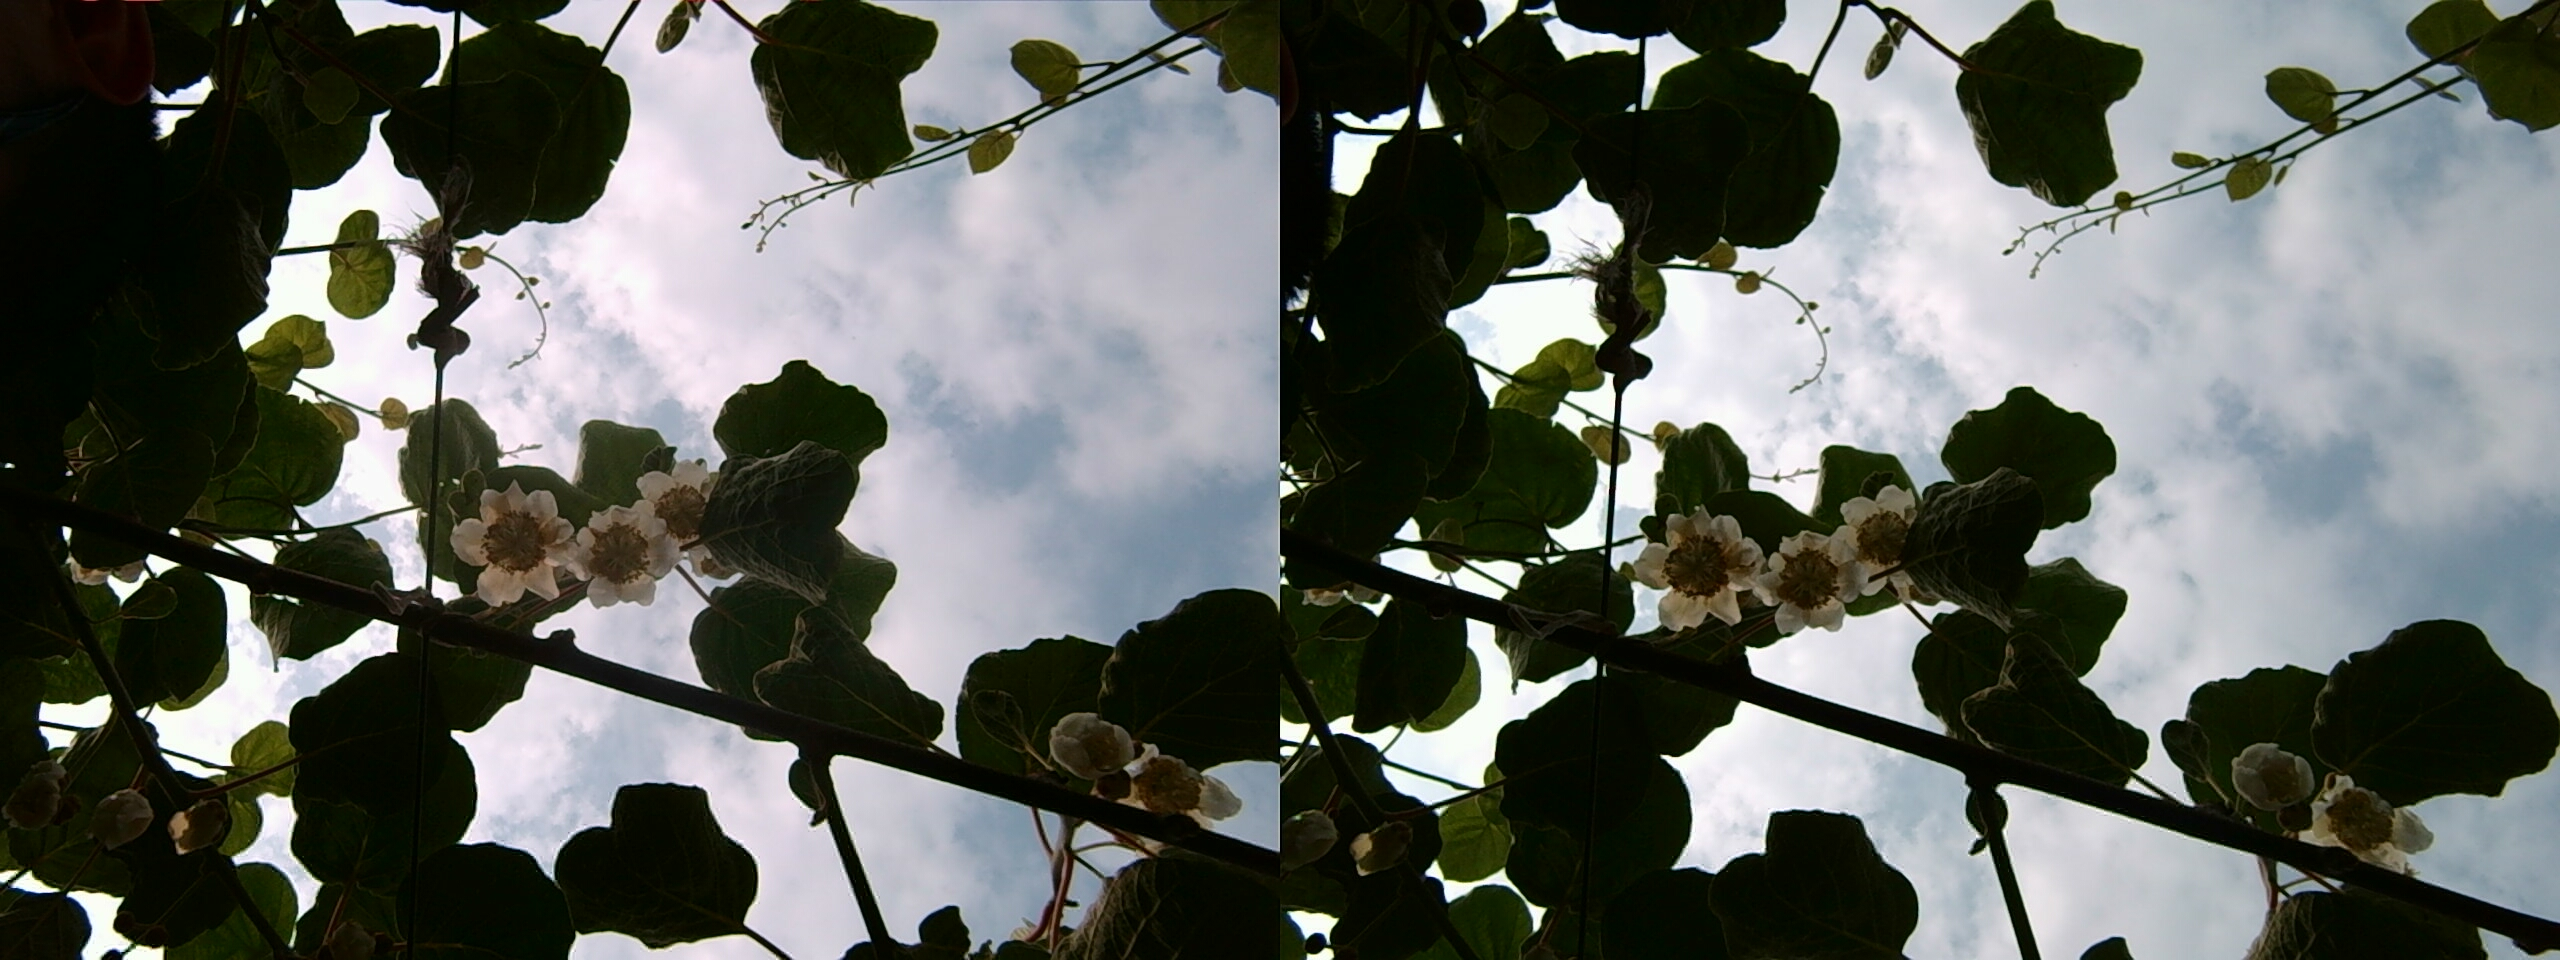flower: (470, 452, 696, 607), (446, 467, 607, 602), (1623, 500, 1784, 627), (1838, 480, 1948, 594), (1771, 524, 1856, 660)
